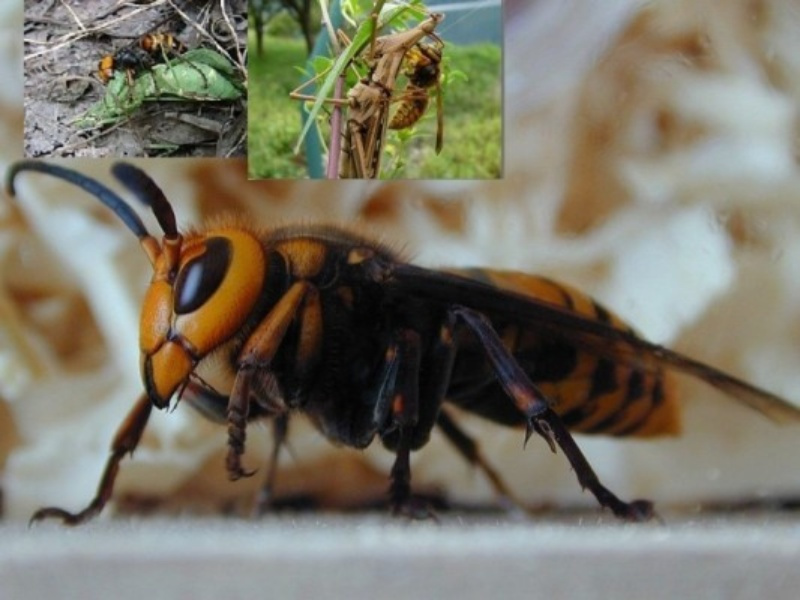asian_giant_hornet: (111, 204, 687, 480), (381, 27, 456, 160), (93, 26, 195, 84)
